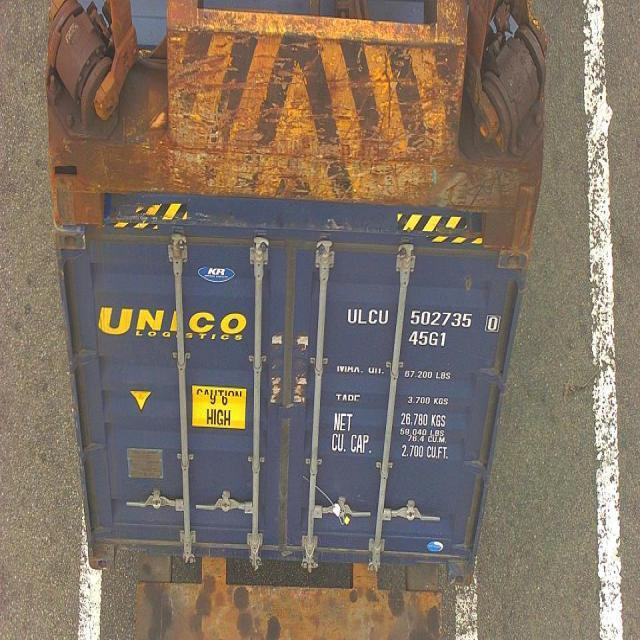ISO: (410, 330, 448, 348)
container_number: (345, 306, 502, 332)
